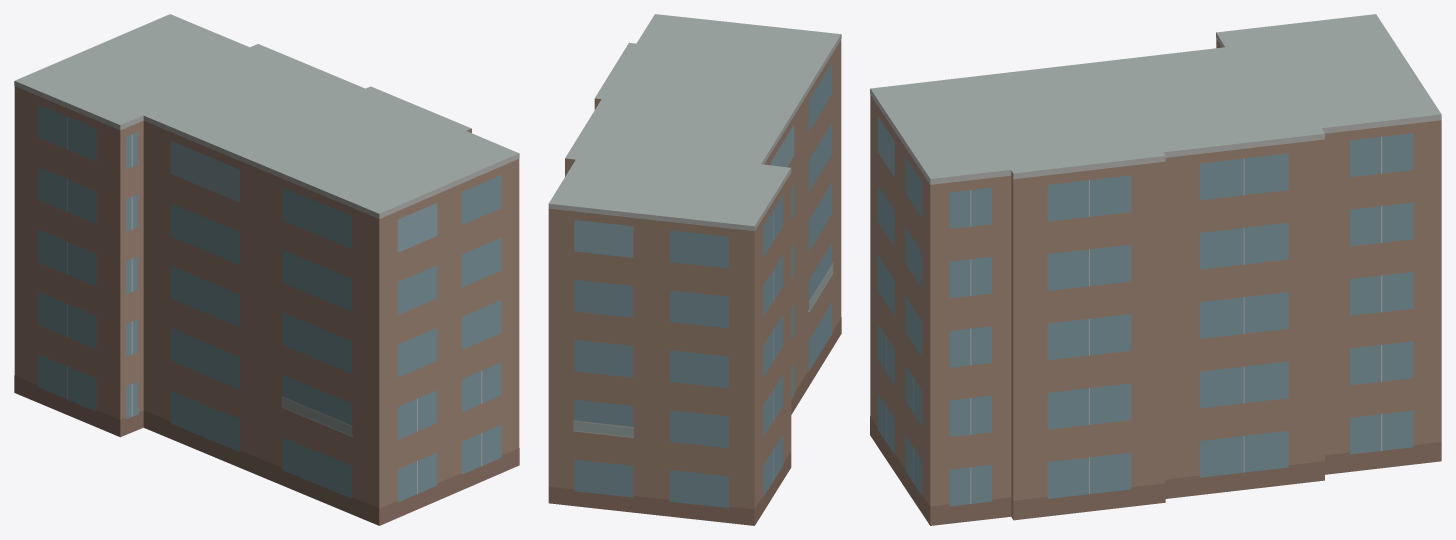
File: survey-upis-32649853.glb
3 views of the same model, side by side, from view 1: azimuth 30°, elevation 25°; view 2: azimuth 150°, elevation 25°; view 3: azimuth 270°, elevation 25° (orthographic). The views are drawn at different scales.
Visible parts, largest first — view 1: survey-upis-32649853.tmp; view 2: survey-upis-32649853.tmp; view 3: survey-upis-32649853.tmp.
Boxes of the visible parts, <box> form: survey-upis-32649853.tmp: <box>14,14,519,525</box>; survey-upis-32649853.tmp: <box>548,14,841,525</box>; survey-upis-32649853.tmp: <box>870,14,1441,525</box>.
Size of the model in its own units: 15.06 by 14.74 by 22.03.
